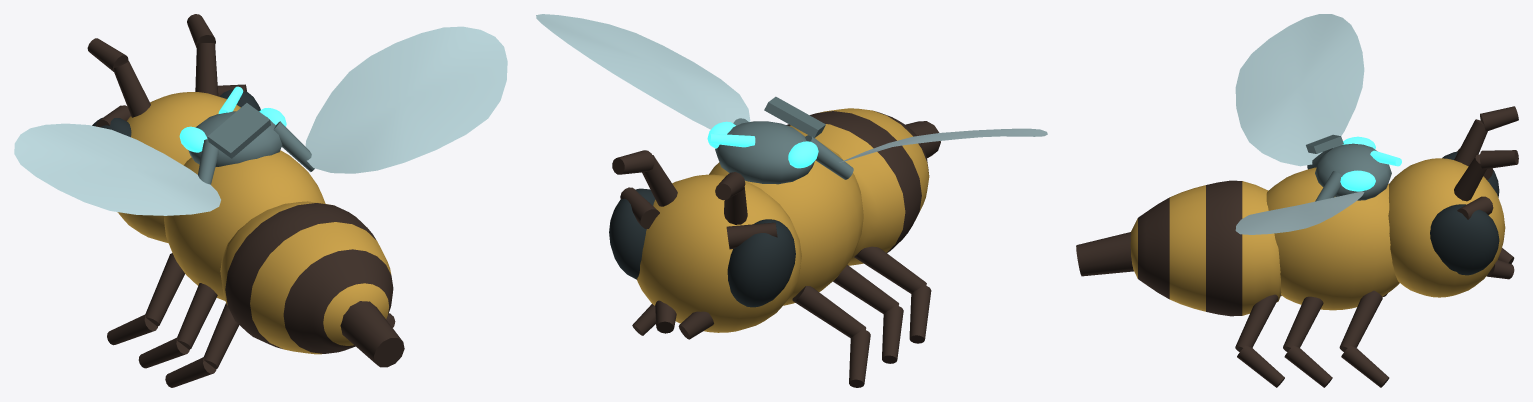
Rendered from bee_style_b.glb.
The picture shows the model from 3 angles, left to right: view 1: azimuth 30°, elevation 25°; view 2: azimuth 150°, elevation 25°; view 3: azimuth 270°, elevation 25°; orthographic projection. The views are drawn at different scales.
Parts seen in each view (by area): view 1: Wing_R, Abdomen, Wing_L, Thorax, Head, Stinger, LiftedBrokenPlate, ImplantHousing, Leg_L_0_Upper, Leg_L_1_Upper, AntennaBase_L, Leg_L_2_Upper (+9 smaller); view 2: Head, Abdomen, Wing_R, Thorax, Eye_L, ImplantHousing, Eye_R, Leg_L_0_Upper, Wing_L, Leg_L_2_Upper, Leg_L_1_Upper, LiftedBrokenPlate (+16 smaller); view 3: Abdomen, Wing_L, Thorax, Head, Eye_R, Wing_R, ImplantHousing, Stinger, Leg_R_0_Upper, Leg_R_2_Upper, Leg_R_1_Upper, Leg_R_0_Lower (+11 smaller).
Boxes of the visible parts, <box> form: Wing_R: <box>305,26,507,173</box>; Abdomen: <box>220,201,393,354</box>; Wing_L: <box>14,123,220,215</box>; Thorax: <box>164,150,325,300</box>; Head: <box>117,92,240,243</box>; Stinger: <box>340,301,404,367</box>; LiftedBrokenPlate: <box>207,103,270,158</box>; ImplantHousing: <box>188,111,282,166</box>; Leg_L_0_Upper: <box>145,253,184,326</box>; Leg_L_1_Upper: <box>177,283,217,349</box>; AntennaBase_L: <box>114,60,150,117</box>; Leg_L_2_Upper: <box>204,303,239,368</box>; Head: <box>637,174,801,332</box>; Abdomen: <box>786,108,929,265</box>; Wing_R: <box>536,14,750,129</box>; Thorax: <box>709,142,863,305</box>; Eye_L: <box>727,219,795,307</box>; ImplantHousing: <box>715,121,814,184</box>; Eye_R: <box>609,188,655,279</box>; Leg_L_0_Upper: <box>792,286,866,338</box>; Wing_L: <box>839,128,1047,162</box>; Leg_L_2_Upper: <box>854,246,926,293</box>; Leg_L_1_Upper: <box>833,265,898,314</box>; LiftedBrokenPlate: <box>764,96,825,138</box>; Abdomen: <box>1130,180,1281,316</box>; Wing_L: <box>1235,14,1364,166</box>; Thorax: <box>1266,167,1399,310</box>; Head: <box>1388,158,1505,297</box>; Eye_R: <box>1430,204,1499,275</box>; Wing_R: <box>1235,191,1364,234</box>; ImplantHousing: <box>1315,143,1391,200</box>; Stinger: <box>1076,232,1133,276</box>; Leg_R_0_Upper: <box>1339,290,1382,351</box>; Leg_R_2_Upper: <box>1235,294,1278,351</box>; Leg_R_1_Upper: <box>1283,296,1323,351</box>; Leg_R_0_Lower: <box>1341,346,1389,387</box>.
Bounding box in the file's own units: 1.1 × 0.5543 × 0.9762.
